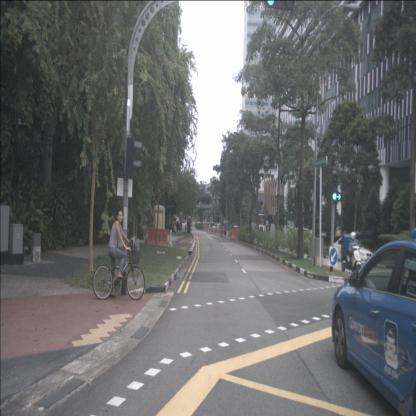movable_object-barrier: (146, 226, 170, 247), (168, 230, 173, 248)
vehicle-bicycle: (92, 209, 146, 302)
vehicle-car: (332, 240, 416, 415), (332, 234, 374, 266), (340, 232, 362, 274)
